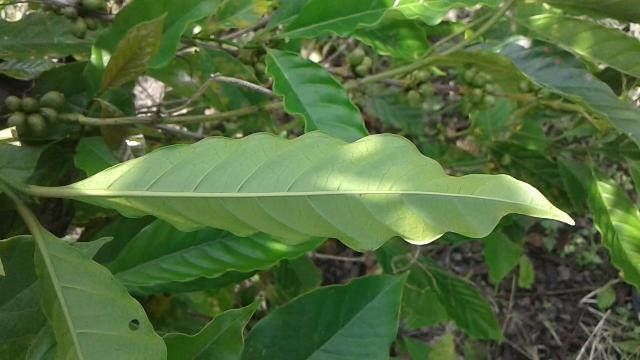healthy: (60, 130, 574, 252)
